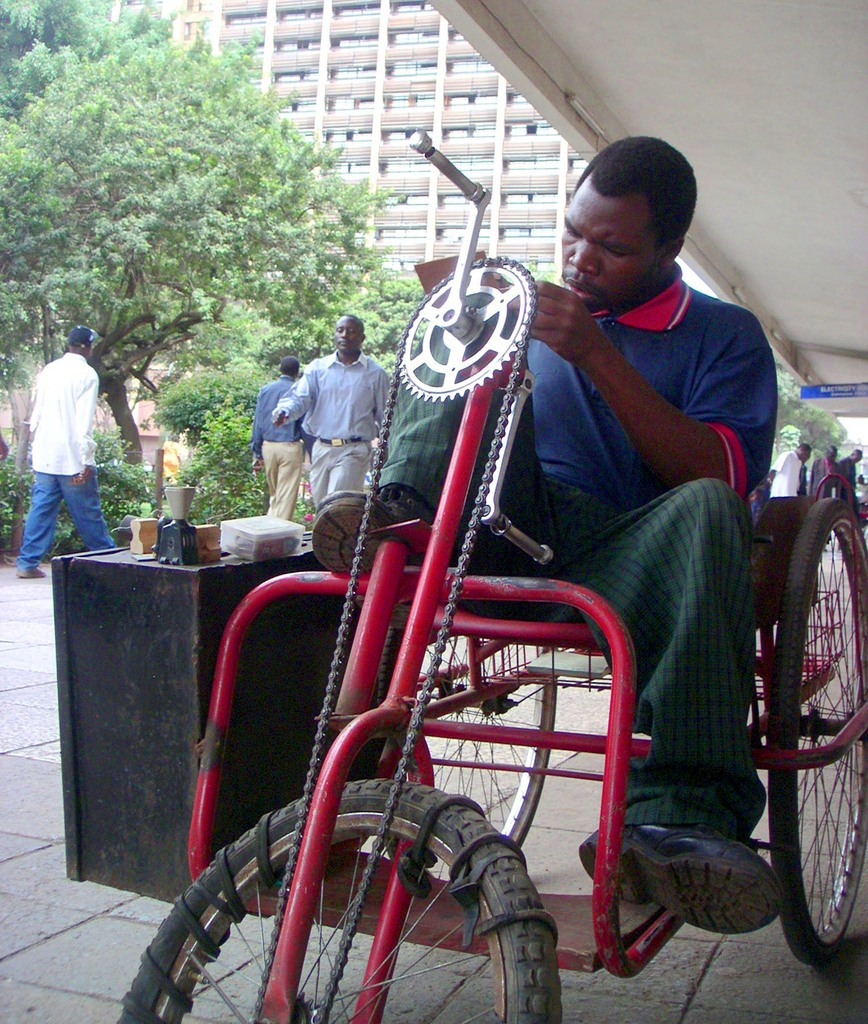Footwear: (574, 821, 789, 938), (14, 567, 52, 580)
